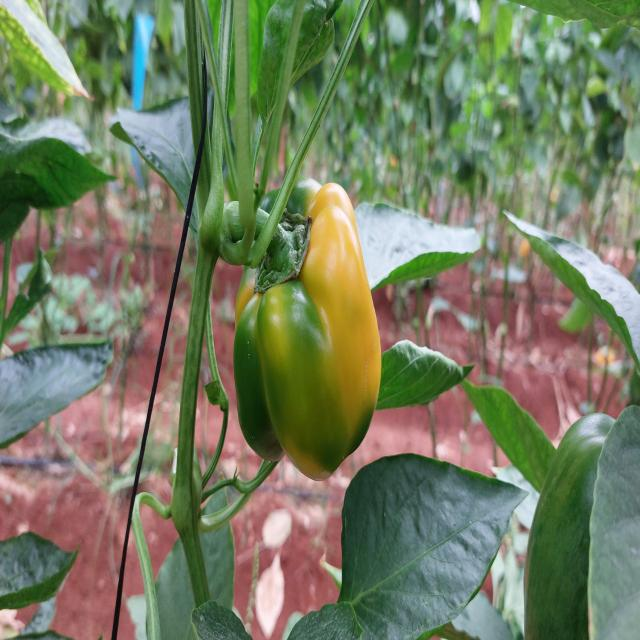GreenishYellow--Can-be-Harvested: (228, 175, 386, 474)
